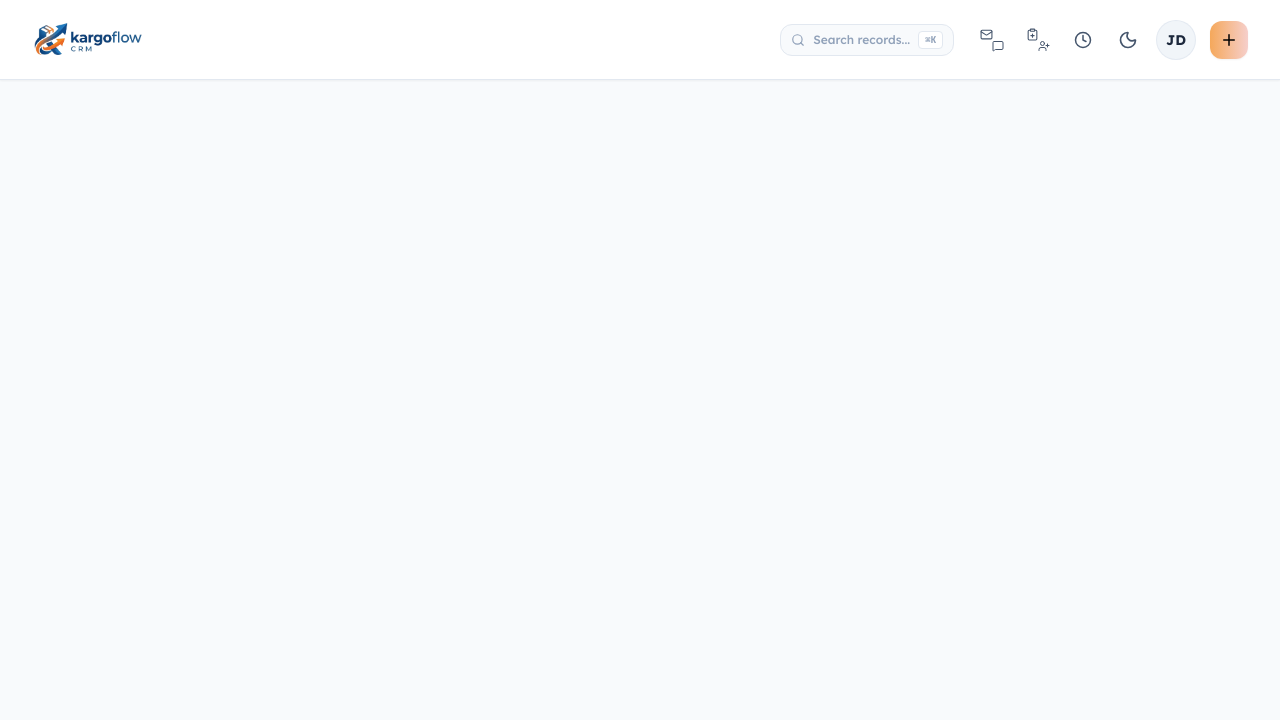
Scenario: Header Universal Search › renders live search results with ID badge and meta details cleanly
Click the button titled "Search (⌘K)" at (867, 40), box [780, 24, 954, 56]
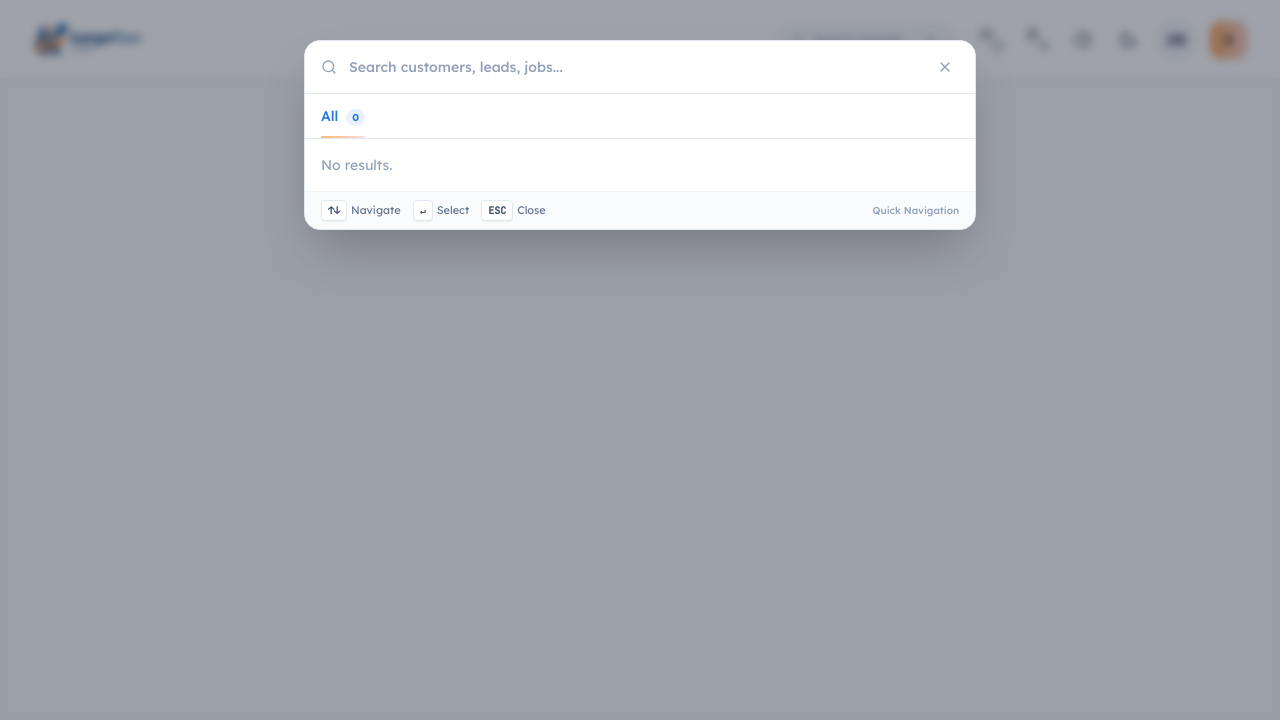
Type "Alice" into the field with placeholder "Search customers, leads, jobs..." at (634, 67), box [349, 57, 919, 77]
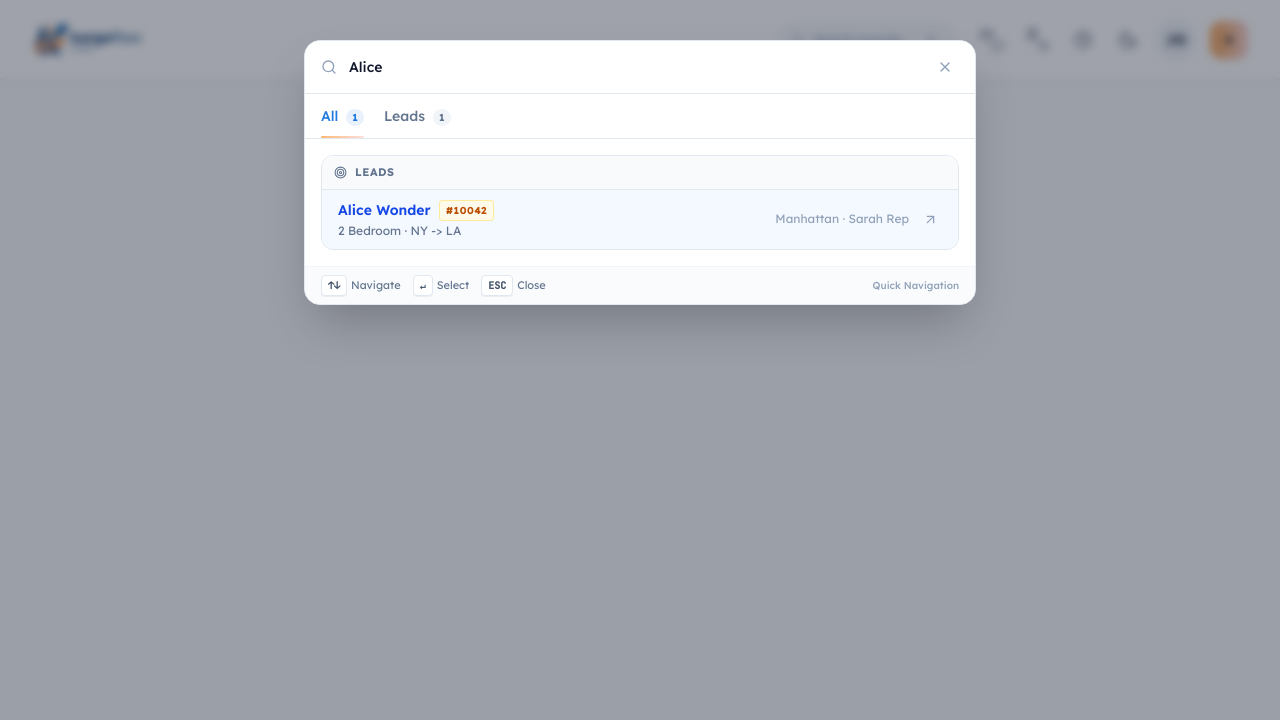
expect the text "Alice Wonder" is shown: met, box [338, 200, 431, 220]
expect the text "#10042" is shown: met, box [439, 200, 494, 220]
expect the text "2 Bedroom · NY -> LA" is shown: met, box [338, 222, 461, 238]
